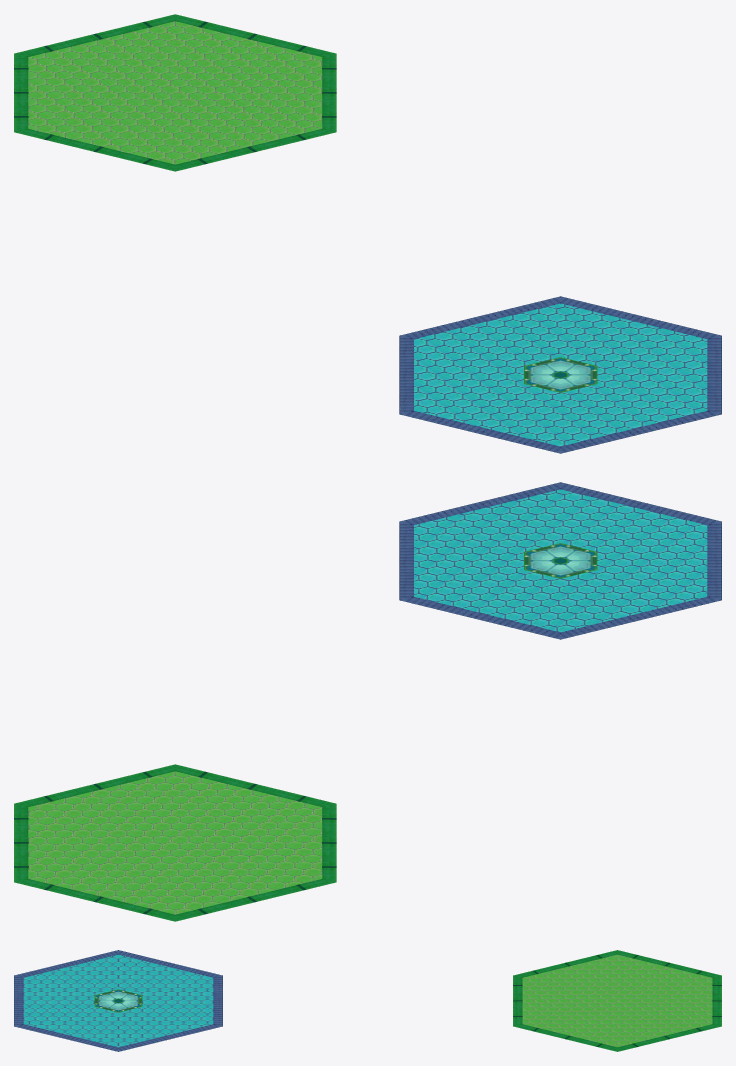
Rendered from S03_ONS_08.OBJ.
3 renders of one model, top to bottom at view 1: azimuth 30°, elevation 25°; view 2: azimuth 150°, elevation 25°; view 3: azimuth 270°, elevation 25°, orthographic. The views are drawn at different scales.
Parts seen in each view (by area): view 1: s03_ons_08_4, s03_ons_08_2, s03_ons_08_0, s03_ons_08_3, s03_ons_08_1; view 2: s03_ons_08_4, s03_ons_08_2, s03_ons_08_0, s03_ons_08_3, s03_ons_08_1; view 3: s03_ons_08_4, s03_ons_08_2, s03_ons_08_0, s03_ons_08_3, s03_ons_08_1.
Part boxes in pixels (bbox=[...]): s03_ons_08_4: bbox=[28, 21, 321, 164]; s03_ons_08_2: bbox=[414, 303, 707, 446]; s03_ons_08_0: bbox=[399, 296, 721, 453]; s03_ons_08_3: bbox=[14, 14, 336, 171]; s03_ons_08_1: bbox=[524, 357, 597, 392]; s03_ons_08_4: bbox=[28, 771, 321, 914]; s03_ons_08_2: bbox=[414, 489, 707, 632]; s03_ons_08_0: bbox=[399, 482, 721, 639]; s03_ons_08_3: bbox=[14, 764, 336, 921]; s03_ons_08_1: bbox=[524, 543, 597, 578]; s03_ons_08_4: bbox=[522, 954, 712, 1047]; s03_ons_08_2: bbox=[23, 954, 213, 1047]; s03_ons_08_0: bbox=[14, 950, 222, 1051]; s03_ons_08_3: bbox=[513, 950, 721, 1051]; s03_ons_08_1: bbox=[94, 989, 142, 1012].
Bounding box in the file's own units: 416 × 0 × 1220.
